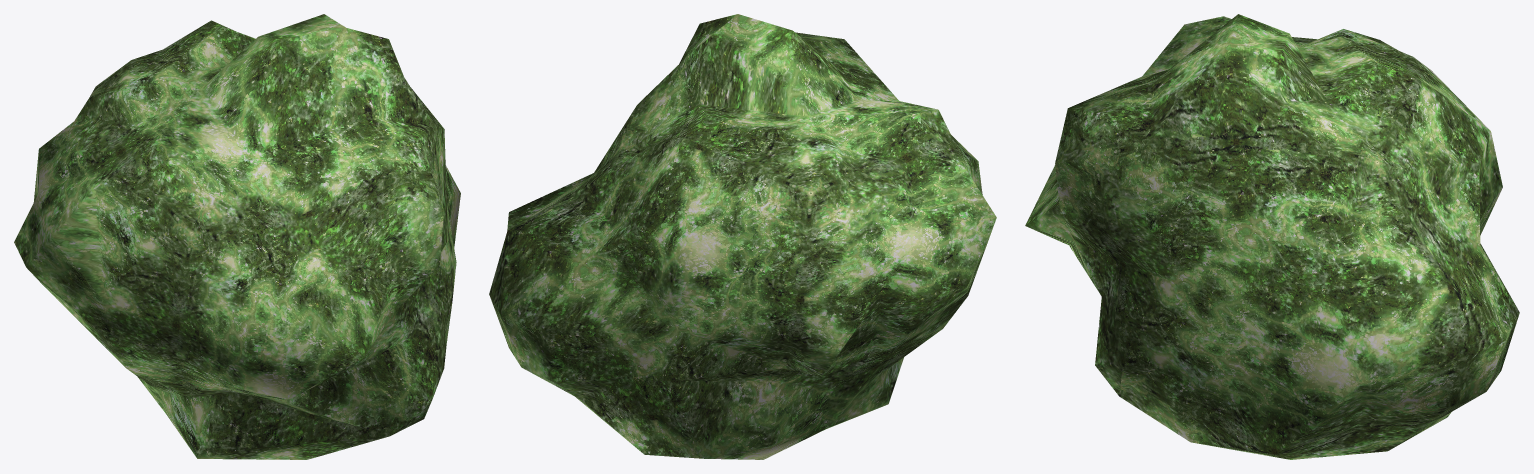
The model's file is asteroid_acid_medium_s02_l1.fbx.
The picture shows the model from 3 angles, left to right: view 1: azimuth 30°, elevation 25°; view 2: azimuth 150°, elevation 25°; view 3: azimuth 270°, elevation 25°; orthographic projection. The views are drawn at different scales.
Parts seen in each view (by area): view 1: mesh_node; view 2: mesh_node; view 3: mesh_node.
Part boxes in pixels (x1,y1,x2,y2): mesh_node: (14,14,460,459); mesh_node: (489,14,996,459); mesh_node: (1025,14,1519,459).
Bounding box in the file's own units: 75.54 × 64.64 × 71.47.
Materials: 1 (1 with a texture image).
